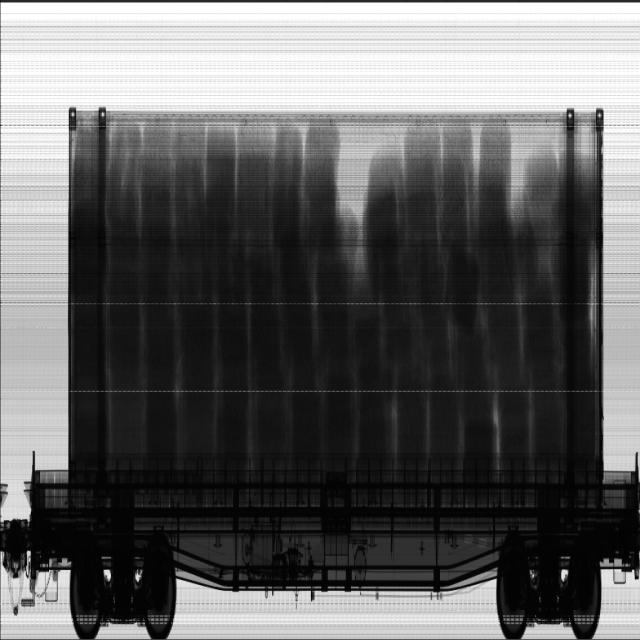textile: (75, 123, 614, 460)
